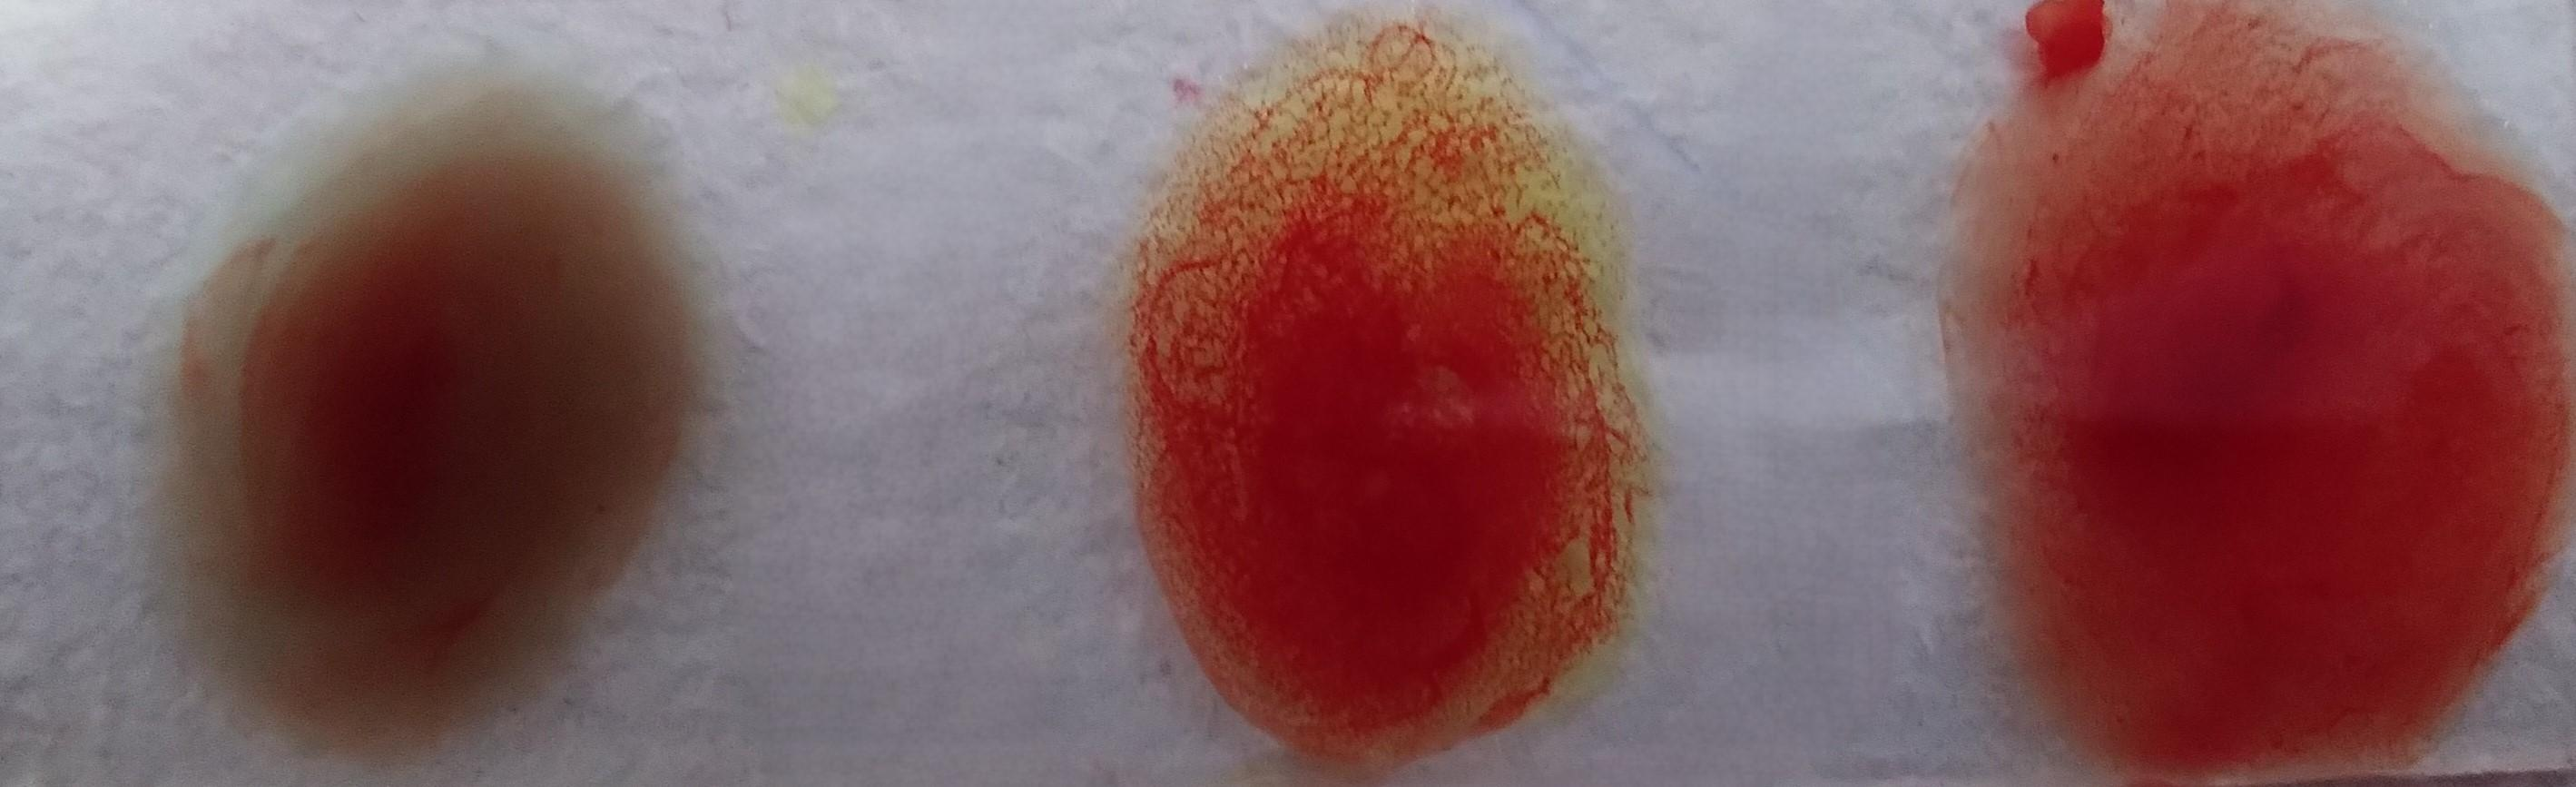B: (1147, 28, 1644, 779)
D: (1983, 10, 2563, 787)
